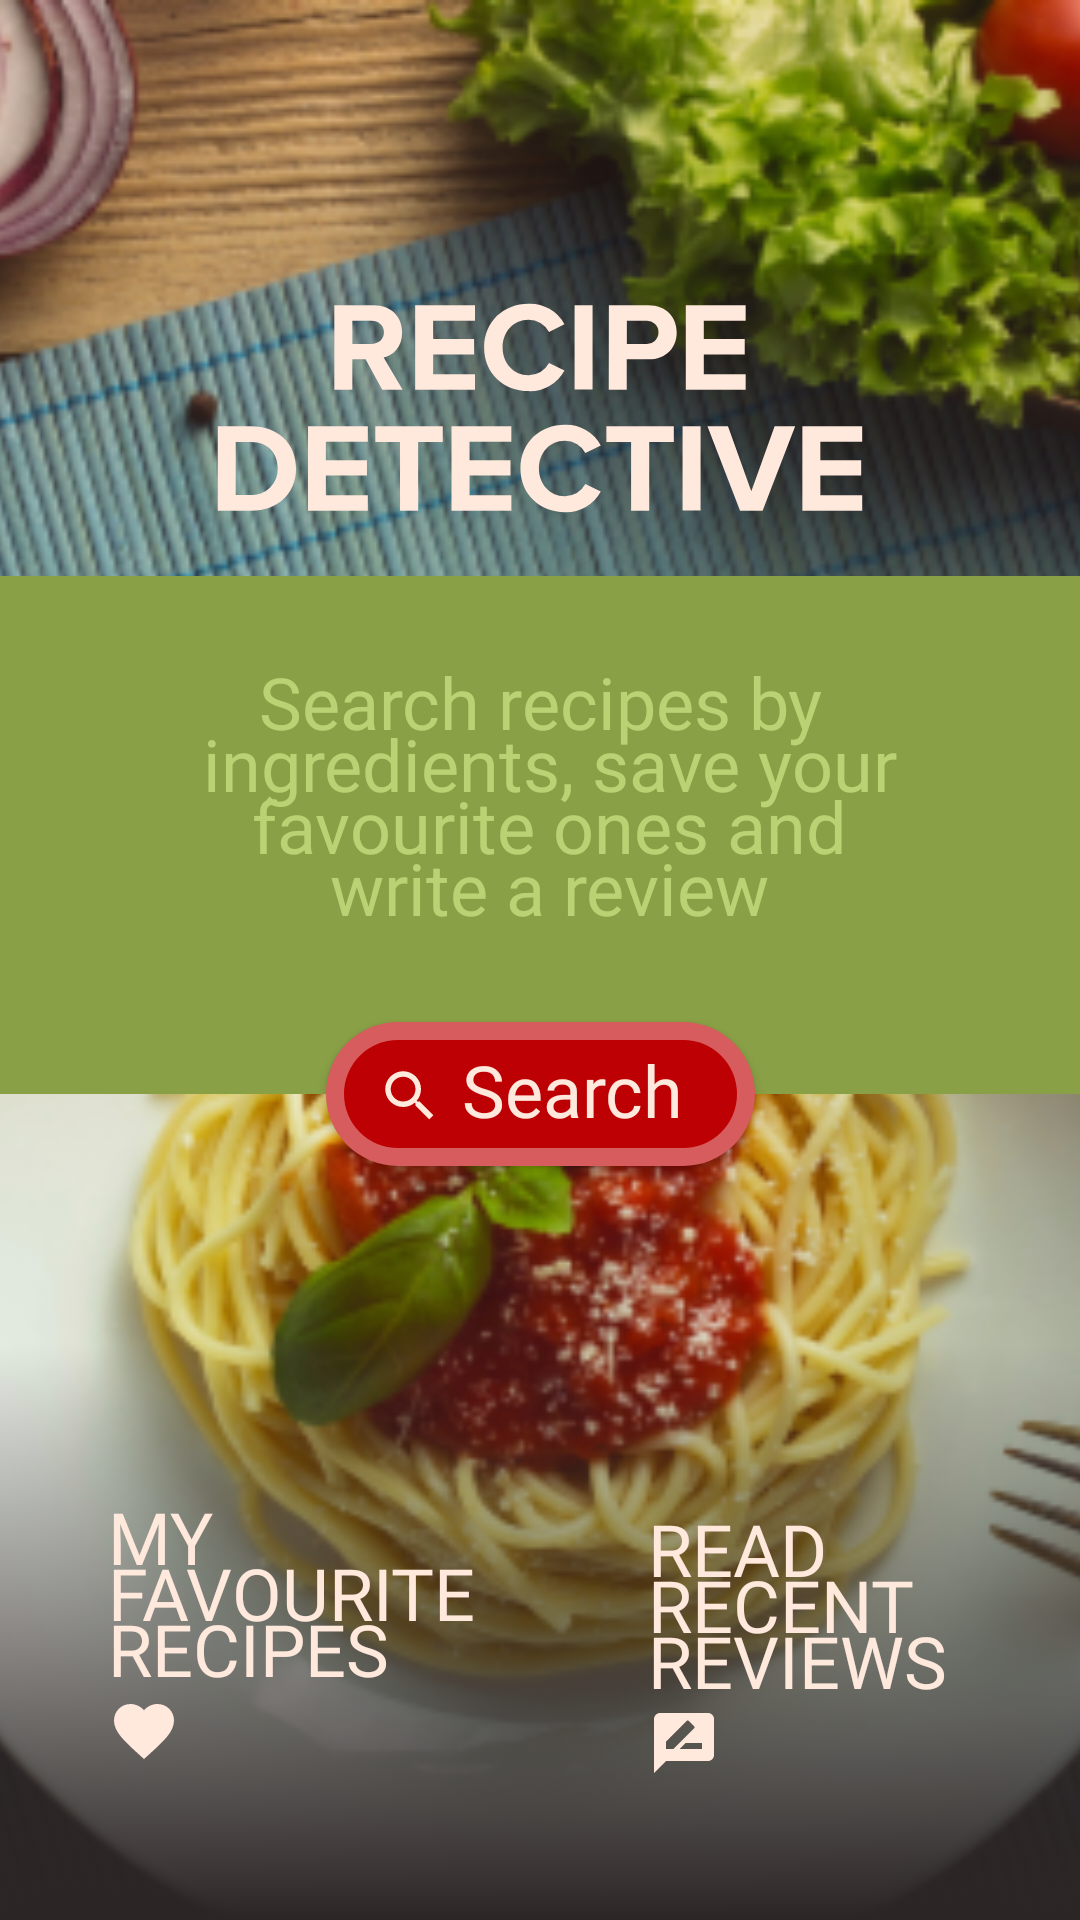

Point at icon controls on the screen. Image size 1080px×1920px, points as [x,y].
favourite idle: [144,1731]
rate review idle: [684,1743]
